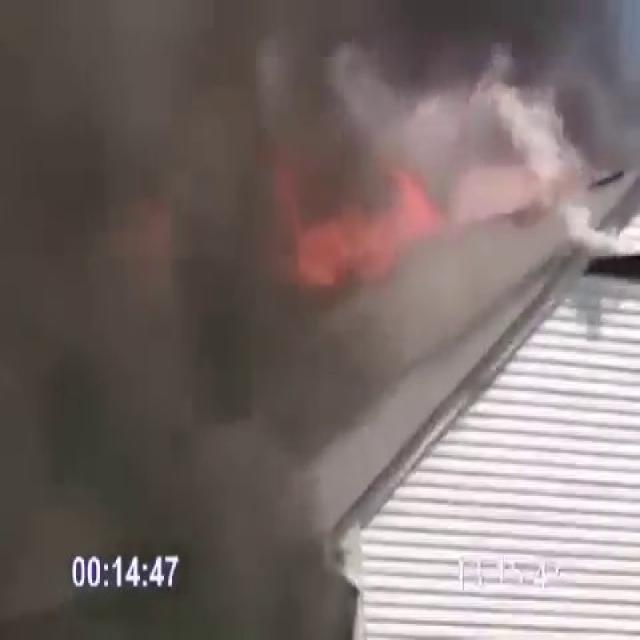Smoke: (0, 0, 405, 636), (2, 0, 638, 304)
